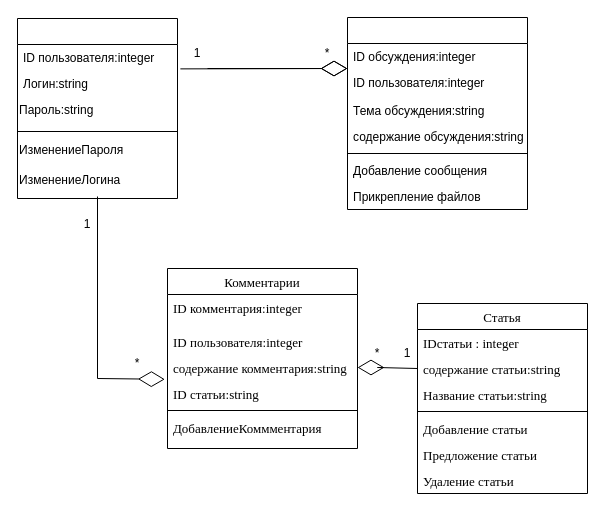
The diagram is 605 pixels wide and 514 high, and some of its shapes have lost their labels. The shapes that lost their labels are listed below. From the top down, each one's box as (x1, y1, x2, y2) in pixels, then its label:
(16, 18, 178, 198): Пользователь
(346, 16, 528, 210): Обсуждение
